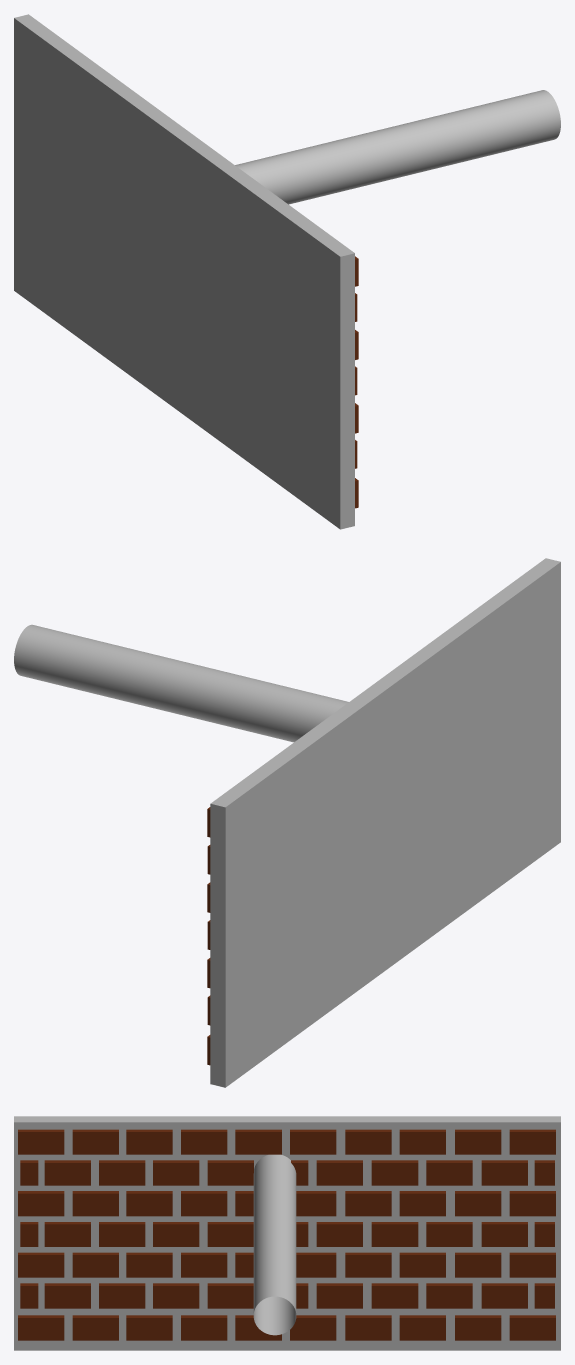
Rendered from (Muro ,Perlin Circular).fbx.
The picture shows the model from 3 angles, top to bottom: view 1: azimuth 30°, elevation 25°; view 2: azimuth 150°, elevation 25°; view 3: azimuth 270°, elevation 25°; orthographic projection. The views are drawn at different scales.
Visible parts, largest first — view 1: Muro Completo.001, Cylinder; view 2: Muro Completo.001, Cylinder; view 3: Muro Completo.001, Cylinder.
Boxes of the visible parts, x1,y1,x2,y2 form: Muro Completo.001: (14, 14, 358, 529); Cylinder: (235, 90, 560, 204); Muro Completo.001: (207, 558, 560, 1087); Cylinder: (14, 624, 348, 742); Muro Completo.001: (14, 1116, 560, 1350); Cylinder: (253, 1154, 296, 1335).
Bounding box in the file's own units: 823 × 590 × 1279.
